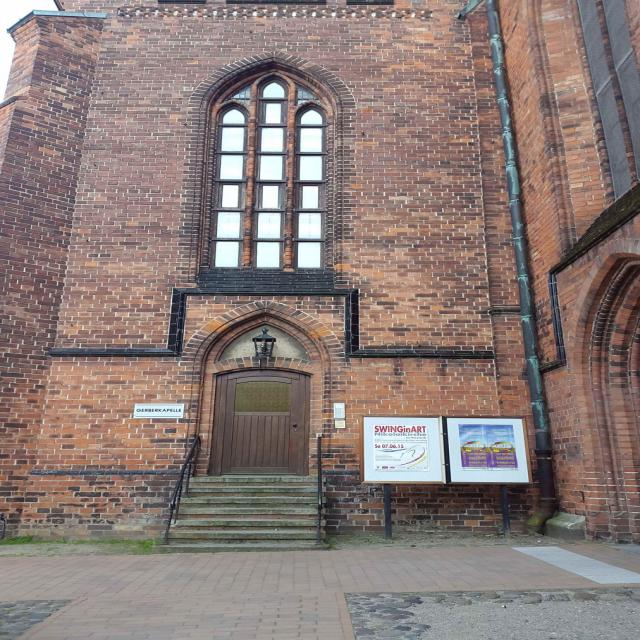AVOID: (161, 476, 323, 552)
